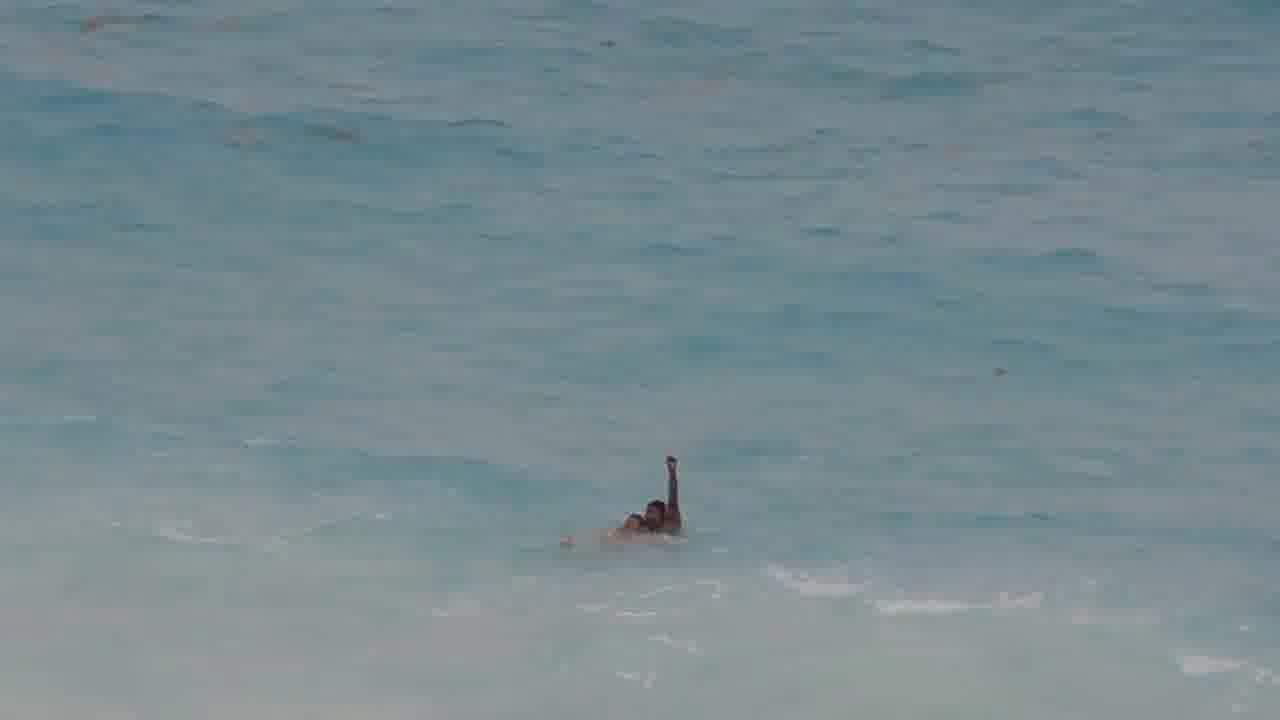swimmer: (641, 449, 697, 539), (560, 500, 644, 554)
